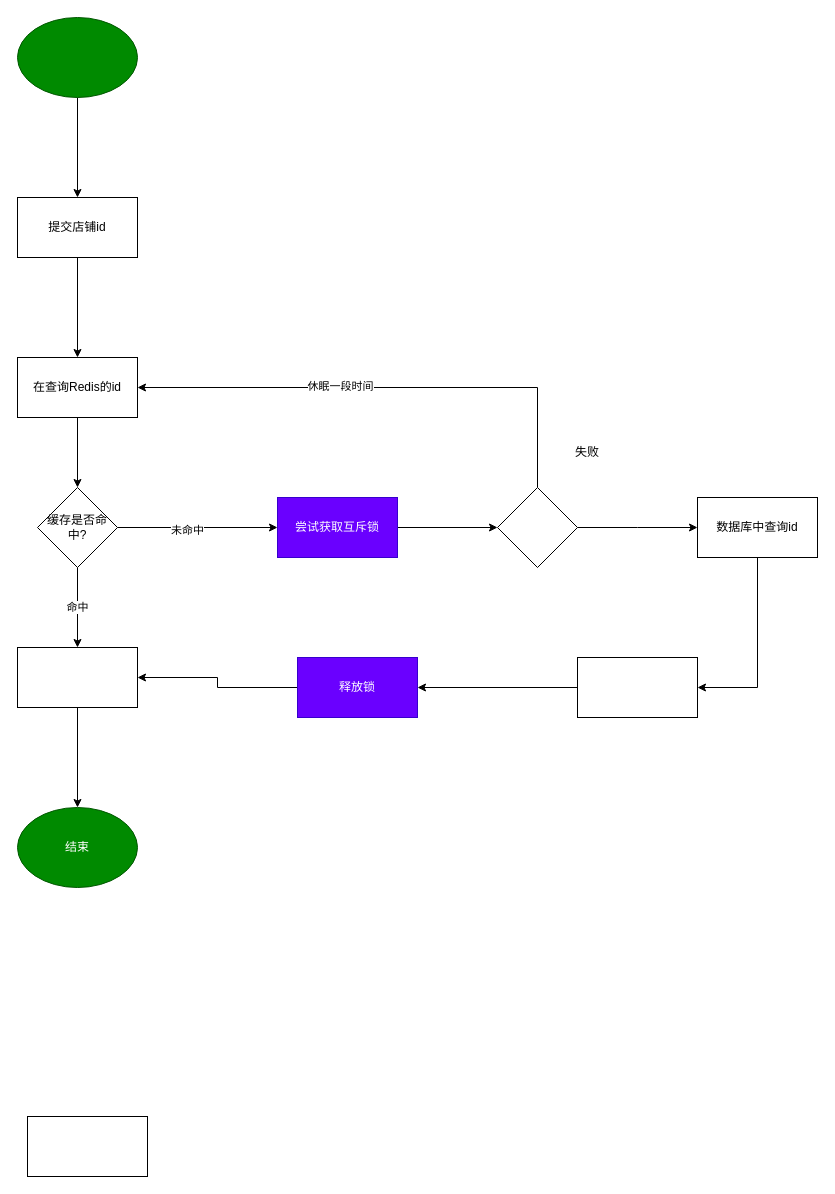
Image size: 835x1194. Some labels were removed from this diagram. The shapes that lost their labels are listed below. From the top down, each one's centre as x and y in pixels, then its label:
the point at 77,57: start
the point at 537,527: 是否获取锁成功
the point at 77,677: 返回数据
the point at 637,687: 将数据缓冲到Redsi
